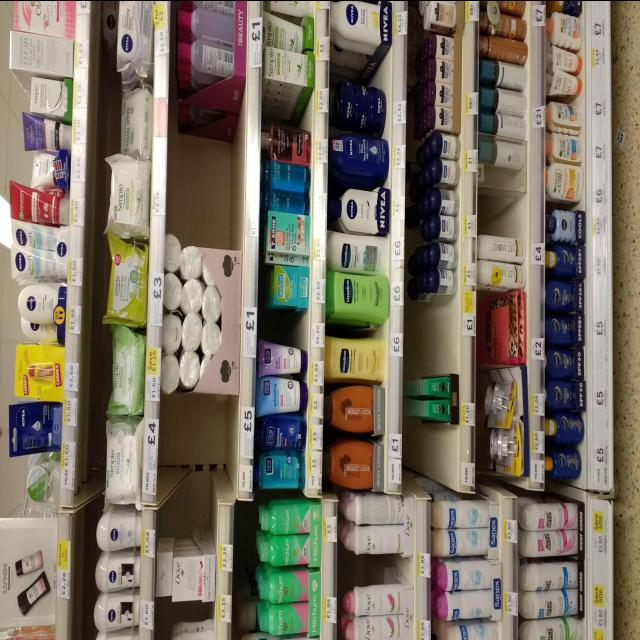empty_space: (168, 403, 225, 517), (177, 117, 239, 219), (413, 305, 453, 371), (410, 429, 454, 471), (349, 554, 412, 582), (484, 199, 528, 226)
